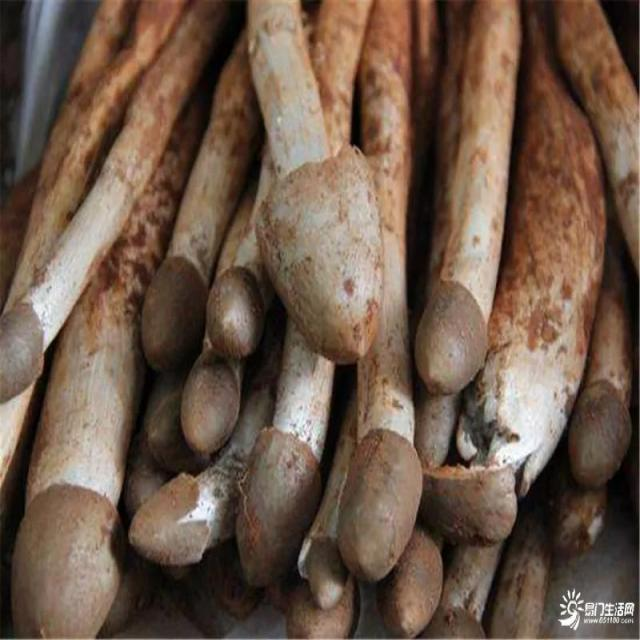Collybia albuminosa: (231, 9, 383, 357), (143, 0, 259, 362), (410, 7, 517, 393), (6, 326, 124, 634), (237, 361, 331, 583), (566, 283, 635, 483)
